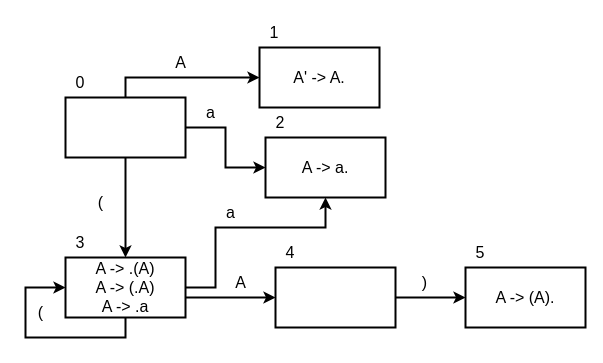
Some shapes in this 603 by 363 pixel diagram are drawn without their labels. The centre of each missing label's shape, as x and y in pixels:
"A -> (A.)" goes at (335,297).
"A' -> .A A -> .(A) A -> .a" goes at (125,127).
